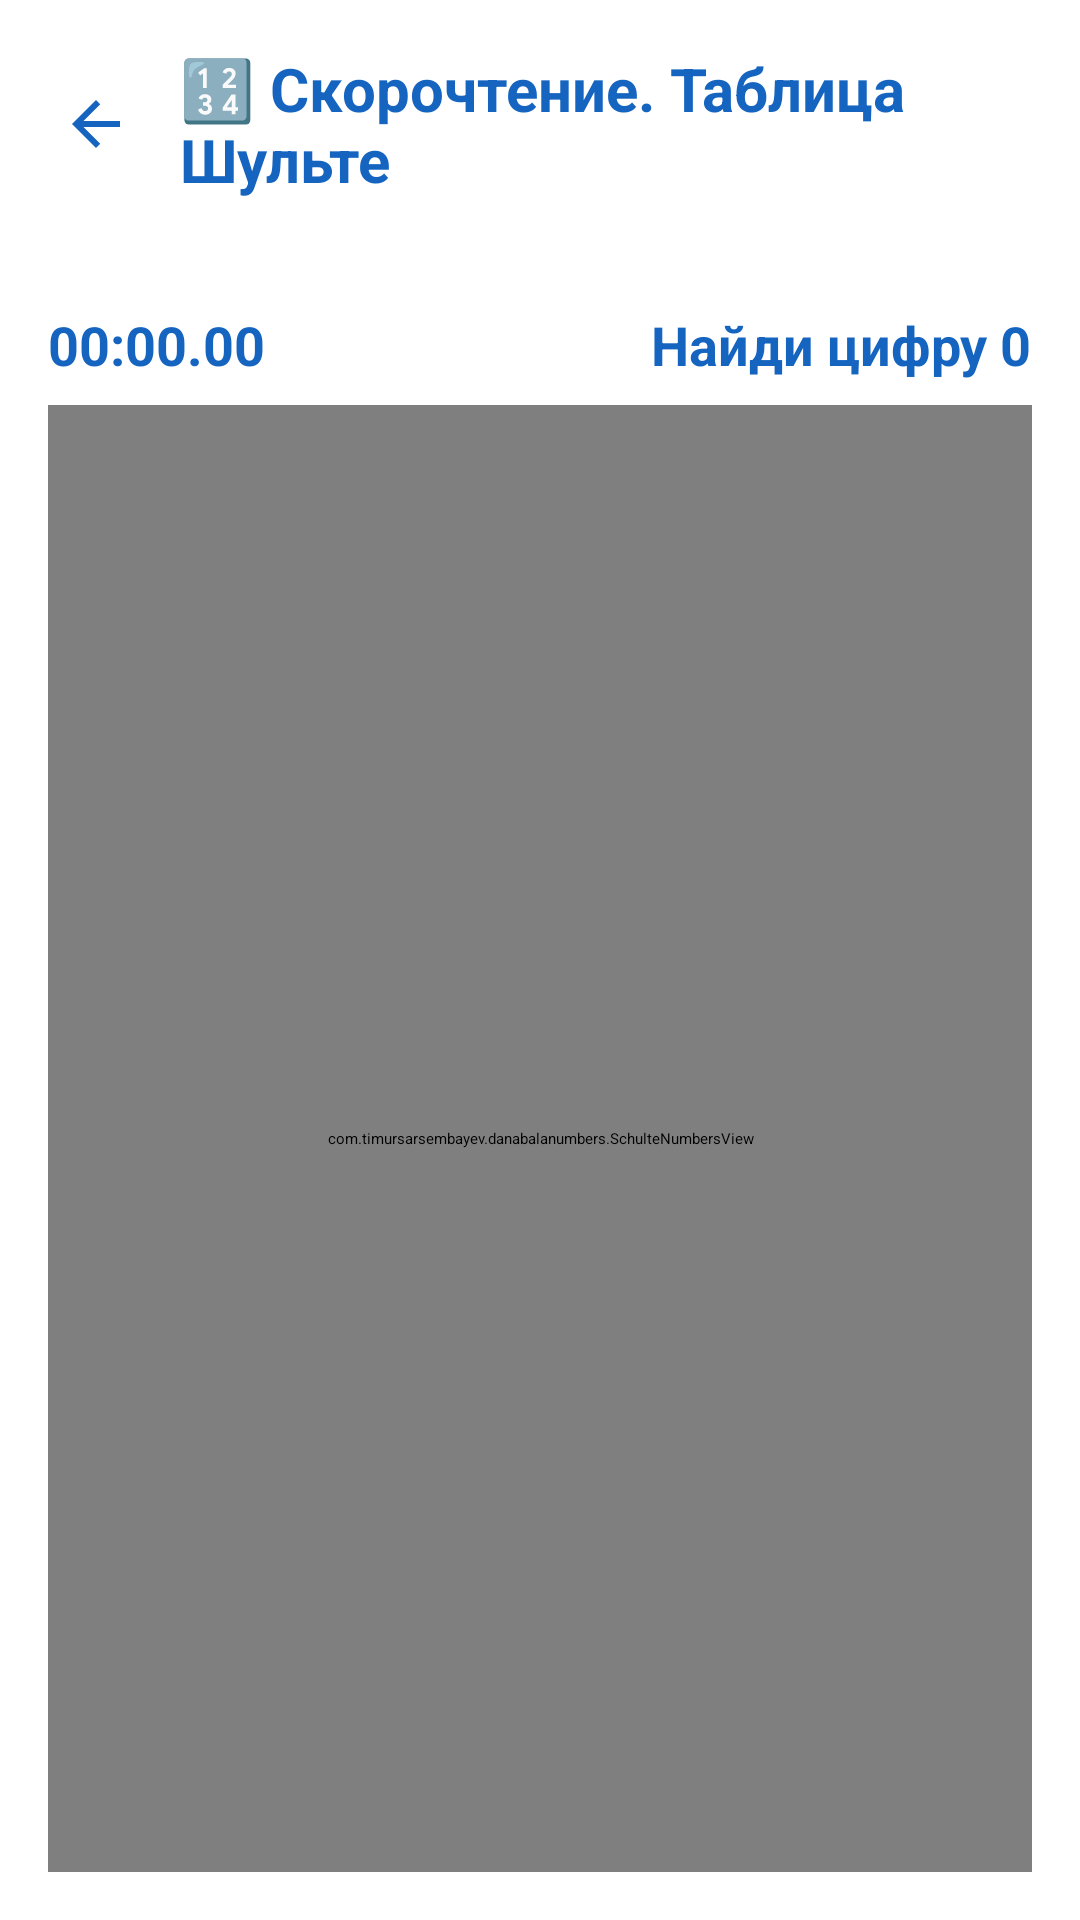

Icons on this 1080w x 1920h Android screen, each with the point to tap as [x,y]:
Назад: [96,124]
